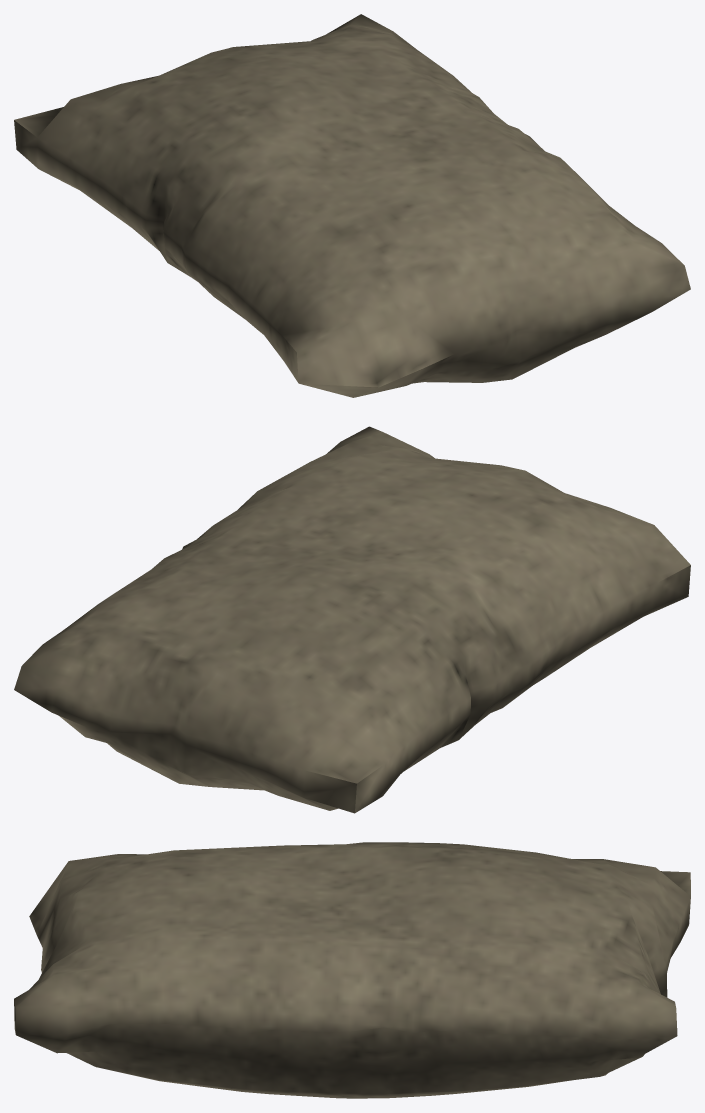
The model's file is SM_Pillow.fbx.
The picture shows the model from 3 angles, top to bottom: view 1: azimuth 30°, elevation 25°; view 2: azimuth 150°, elevation 25°; view 3: azimuth 270°, elevation 25°; orthographic projection. The views are drawn at different scales.
Visible parts, largest first — view 1: SM_Pillow; view 2: SM_Pillow; view 3: SM_Pillow.
Part boxes in pixels (left/top/right/bottom): SM_Pillow: left=14, top=14, right=690, bottom=397; SM_Pillow: left=14, top=426, right=690, bottom=813; SM_Pillow: left=14, top=842, right=690, bottom=1098.
Size of the model in its own units: 0.4211 by 0.6615 by 0.1878.
